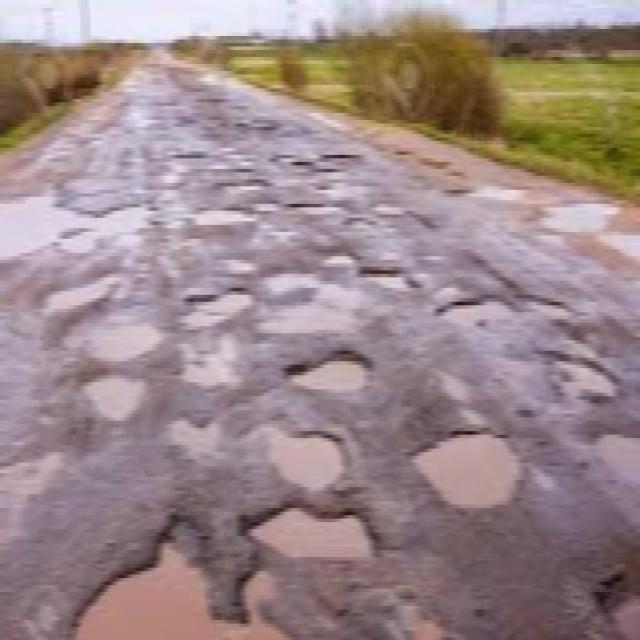Pothole: (30, 506, 308, 640), (397, 412, 545, 530), (259, 260, 375, 358), (235, 490, 379, 568), (254, 420, 355, 499), (0, 196, 150, 249), (546, 201, 640, 282), (557, 556, 638, 640), (426, 287, 588, 329), (580, 422, 640, 520), (41, 310, 154, 362), (77, 367, 157, 437), (372, 589, 480, 640), (526, 342, 617, 402), (251, 145, 378, 185), (168, 284, 258, 336), (272, 352, 375, 393), (167, 409, 228, 472), (34, 282, 124, 322), (180, 196, 262, 238), (452, 179, 537, 212), (390, 149, 464, 180), (362, 255, 414, 292), (288, 201, 350, 220), (147, 150, 229, 162)
